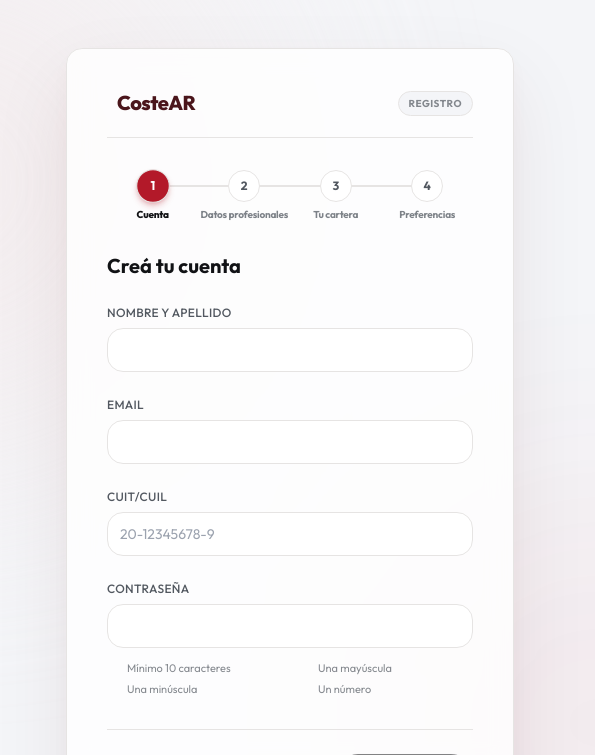
Test: registro › un fallo al verificar el email se muestra y bloquea el avance
Type "persona@ejemplo.com" into the field labelled "Email" at (290, 442), box [107,420,473,464]
(page scrolled)
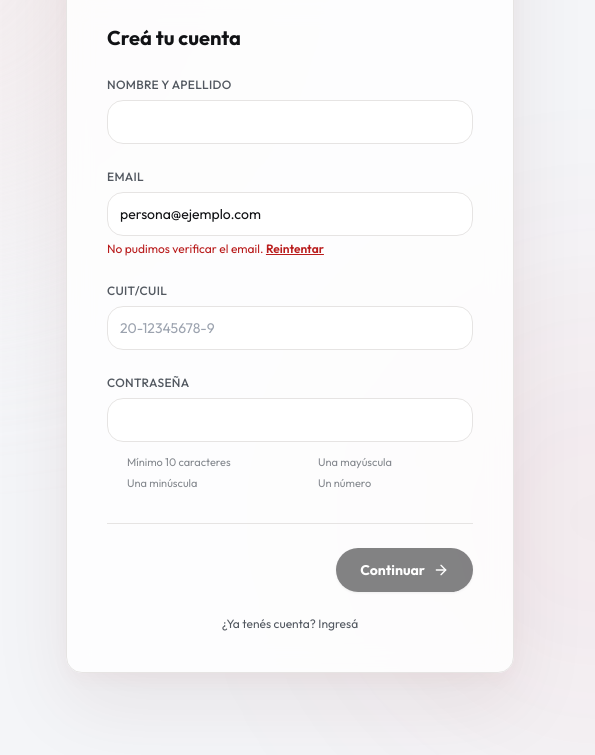
Expected: the button "Continuar" is disabled, [336,548,473,592]
Expected: the text "No pudimos verificar el email. Reintentar" is shown, [107,240,324,258]
